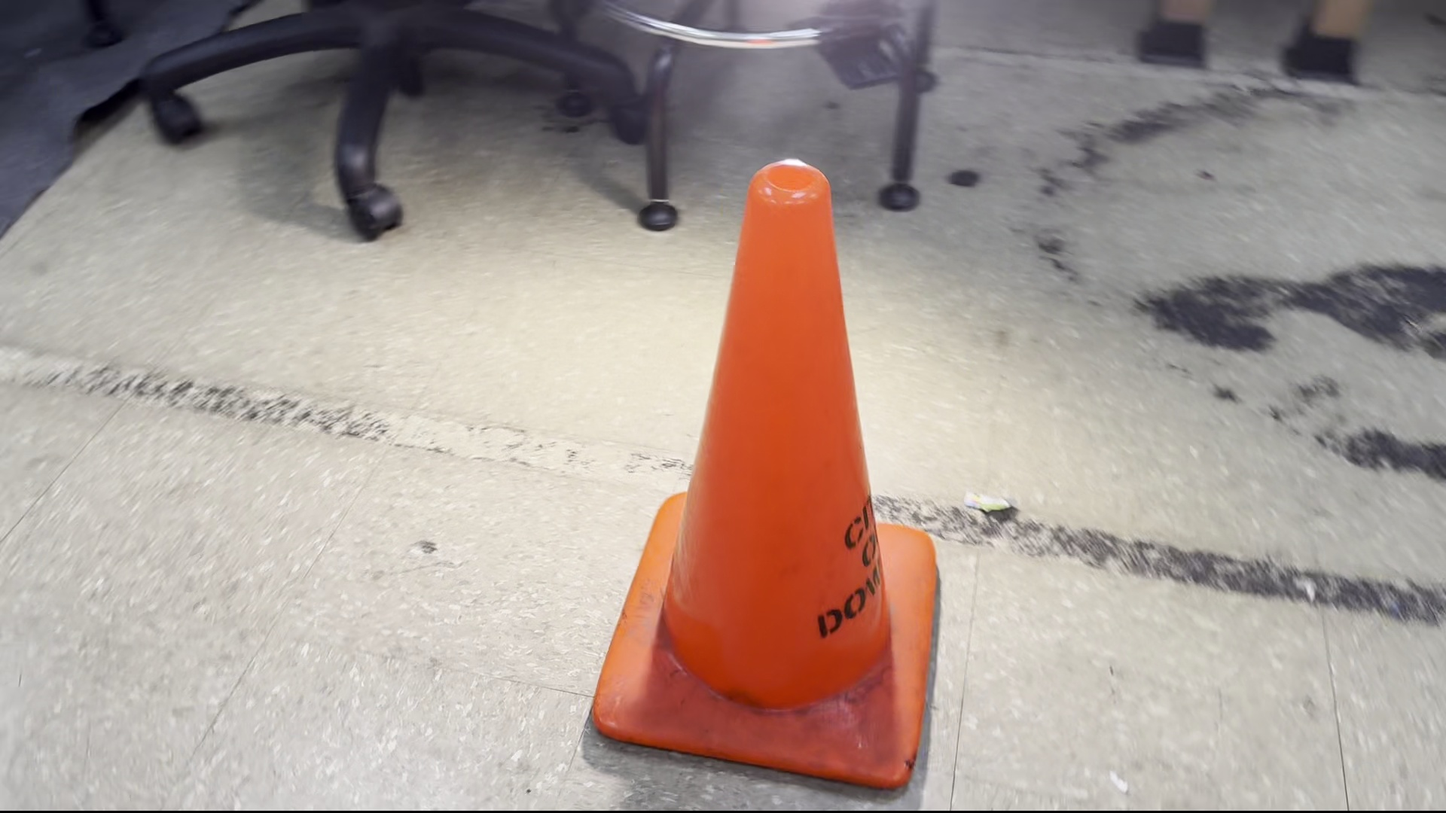traffic_cone: (590, 157, 940, 790)
